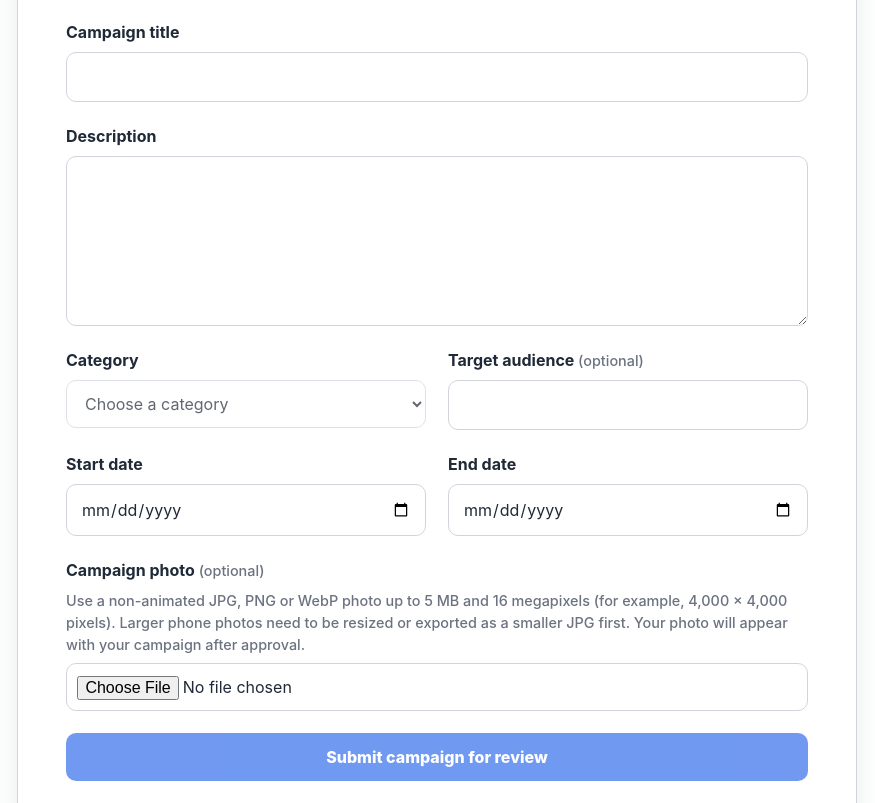
Campaign submission › explains an empty category list and prevents posting until categories are available
(page scrolled)
Check: the button "Submit campaign for review" is disabled, box [66, 733, 808, 781]
Submit the form
(page scrolled)
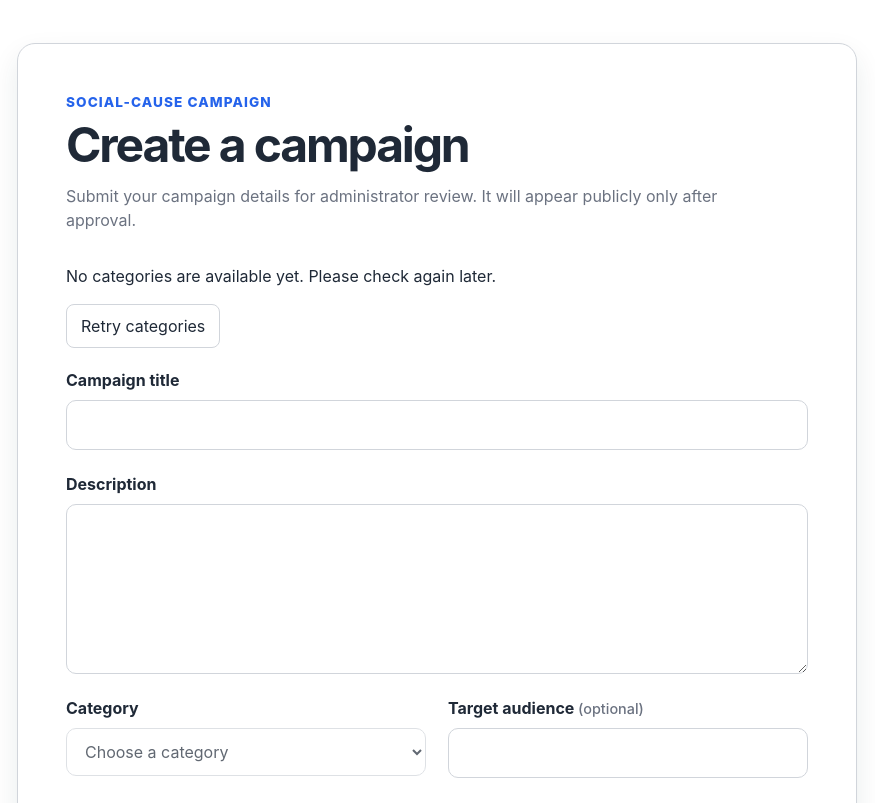
Click the button "Retry categories" at [143, 326], box [66, 304, 220, 348]
(page scrolled)
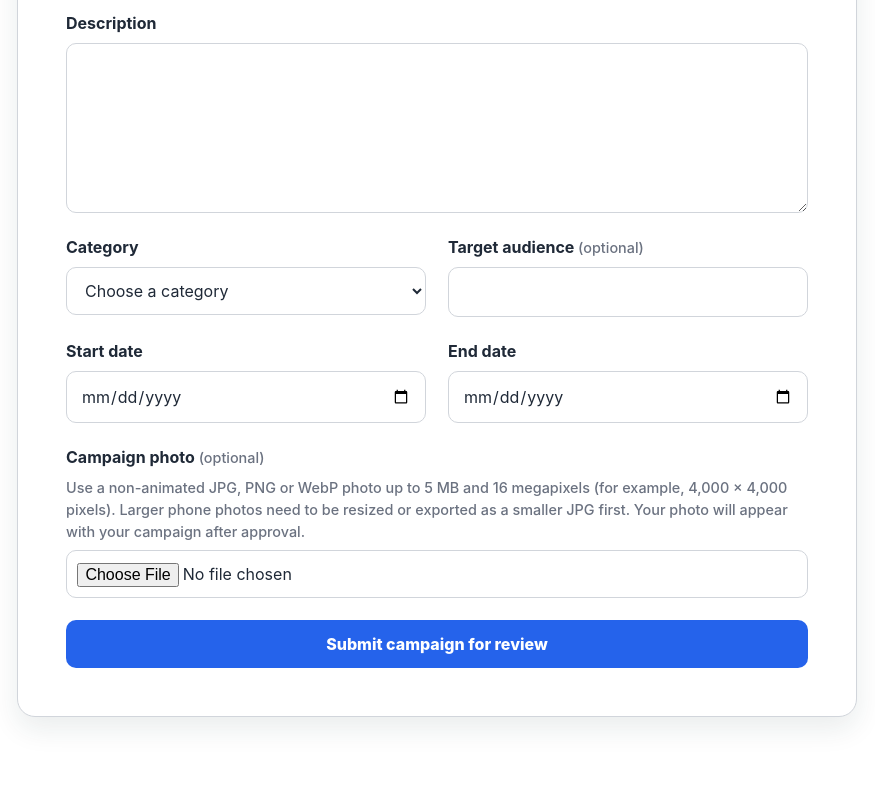
Check: the button "Submit campaign for review" is enabled, box [66, 620, 808, 668]
